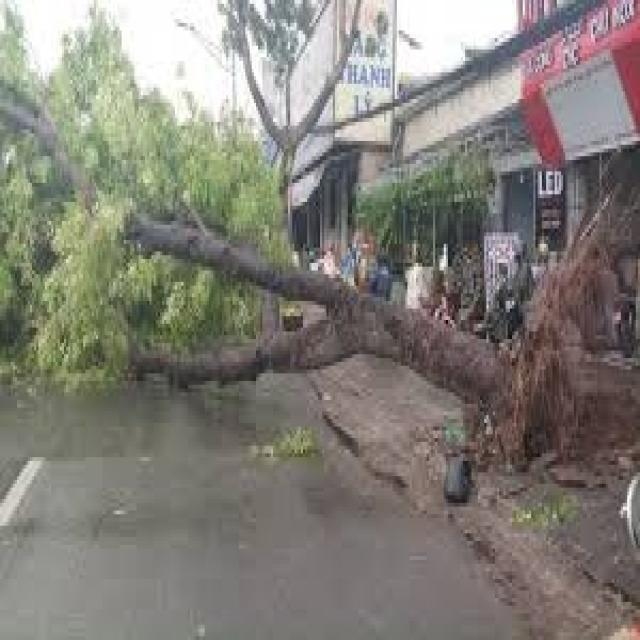fallen_object: (19, 90, 640, 497)
